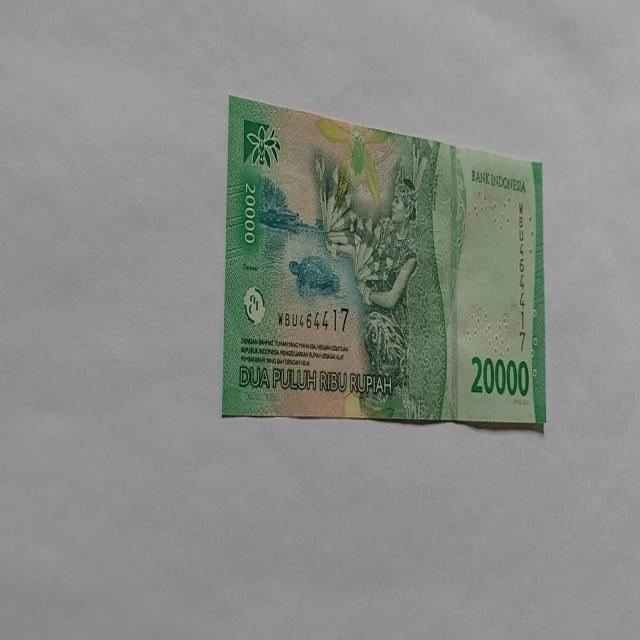dua puluh ribu rupiah: (222, 94, 546, 430)
